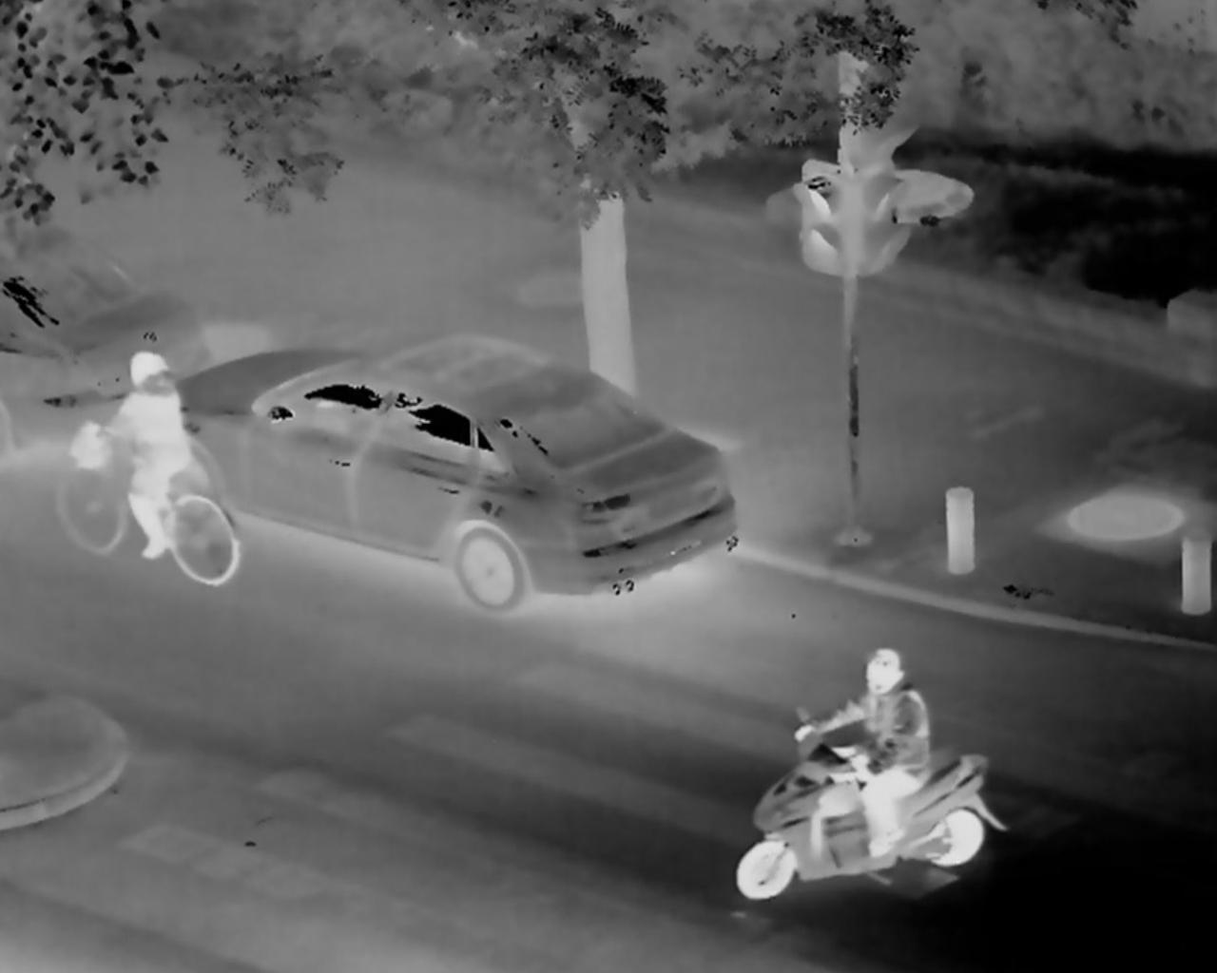person: (795, 641, 943, 867), (89, 348, 207, 558)
